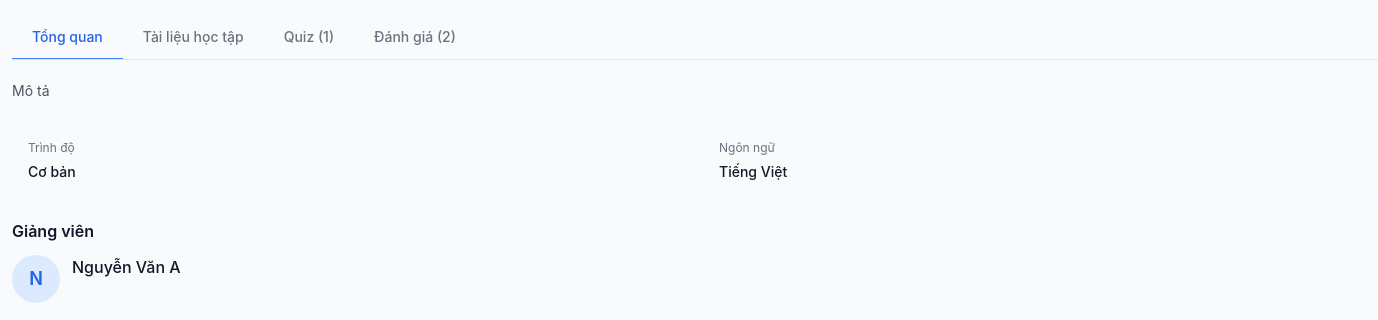
Test case: PlayerTabs › tab Quiz liệt kê quiz của bài và dẫn tới trang làm bài
The width and height of the screenshot is (1378, 320).
Click the button "Quiz (1)".
click(309, 38)  # box [264, 16, 354, 60]
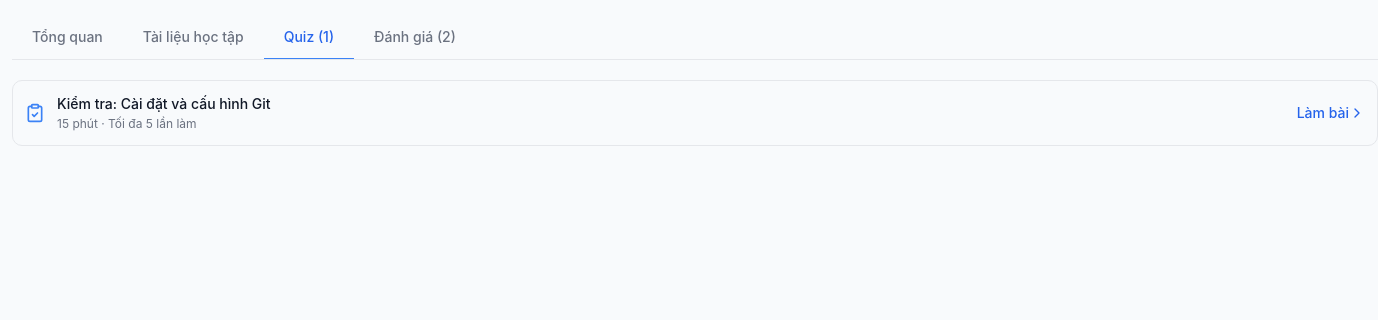
Expected: the text "15 phút · Tối đa 5 lần làm" is shown, [57, 116, 197, 131]
